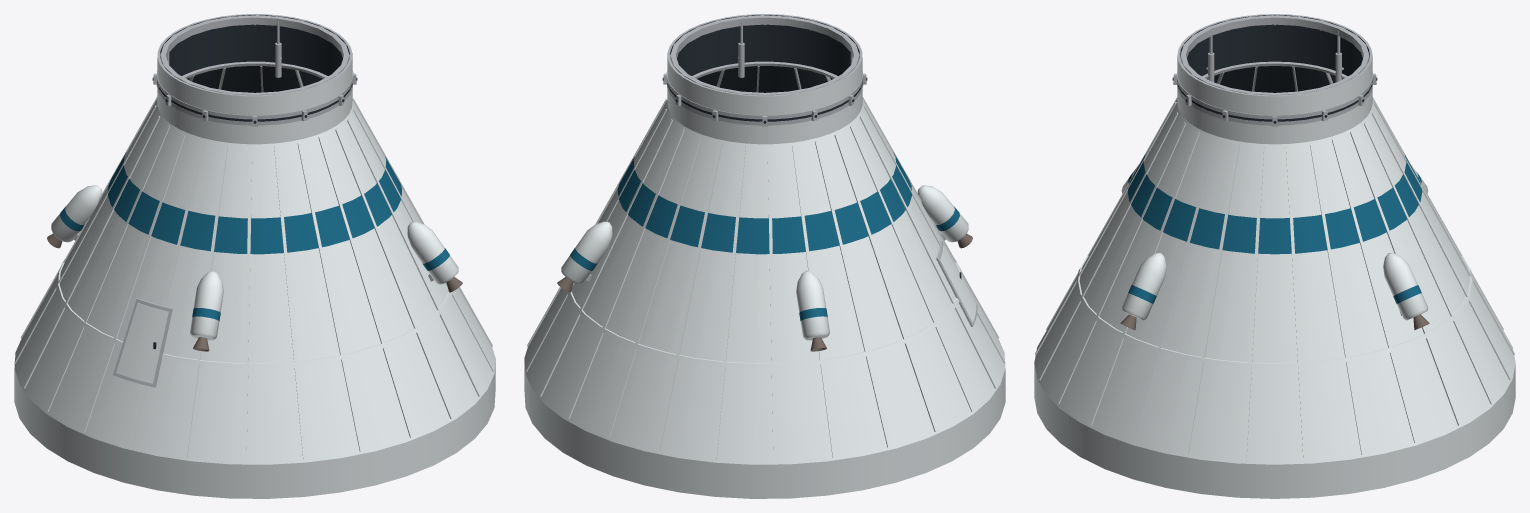
File: interstage_pyro_d37_to_d15.glb
The picture shows the model from 3 angles, left to right: view 1: azimuth 30°, elevation 25°; view 2: azimuth 150°, elevation 25°; view 3: azimuth 270°, elevation 25°; orthographic projection.
Visible parts, largest first — view 1: interstage_pyro_d37_to_d15_mesh; view 2: interstage_pyro_d37_to_d15_mesh; view 3: interstage_pyro_d37_to_d15_mesh.
Boxes of the visible parts, x1,y1,x2,y2 form: interstage_pyro_d37_to_d15_mesh: (14, 14, 495, 498); interstage_pyro_d37_to_d15_mesh: (524, 14, 1005, 498); interstage_pyro_d37_to_d15_mesh: (1034, 14, 1515, 498).
Bounding box in the file's own units: 3.7 × 2.9 × 3.7.
